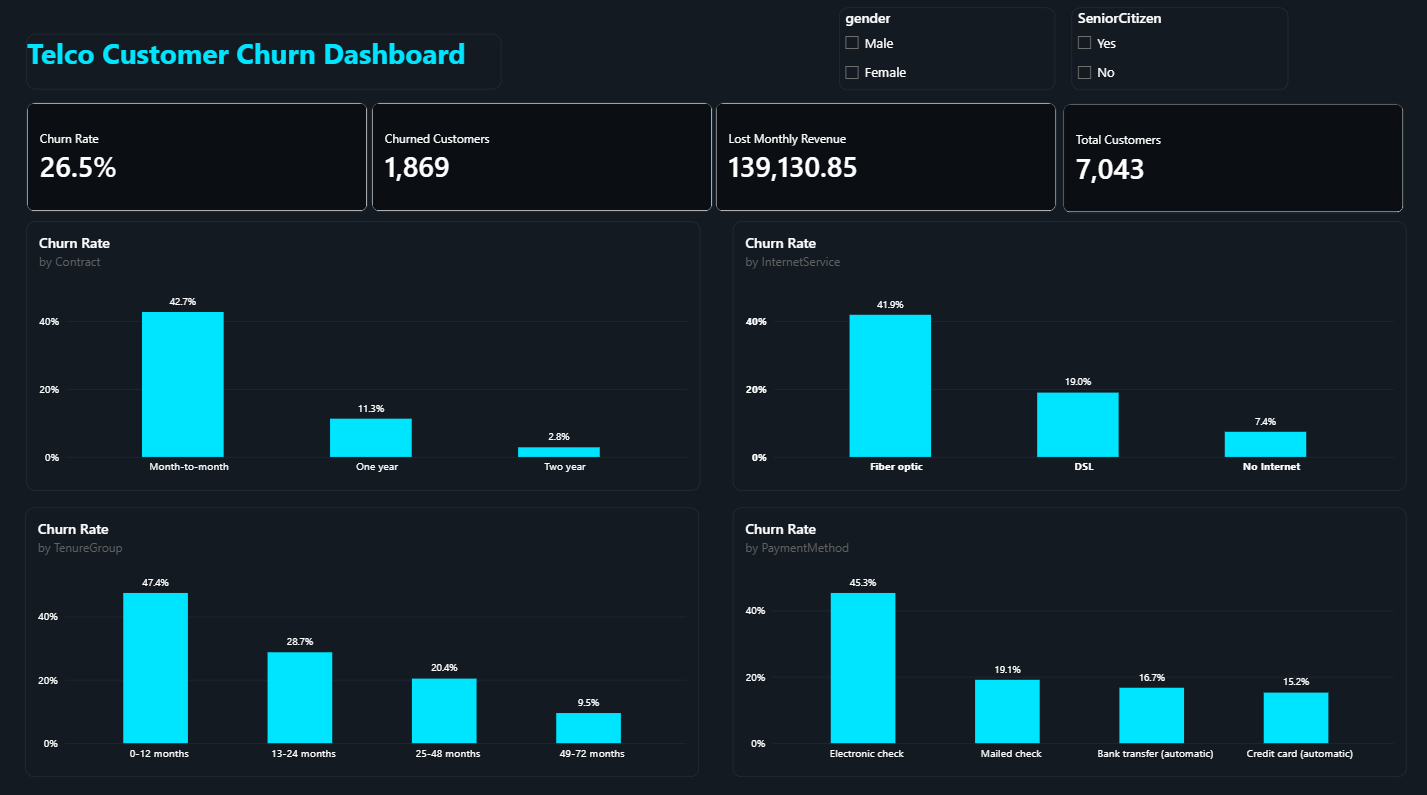

What the dashboard file says about the page in this screenshot:
{"tool":"powerbi","page":{"name":"Page 1","canvas":[1920,1080],"ordinal":0},"visuals":[{"type":"cardVisual","fields":{"Data":["telco_churn_clean.Churned Customers Display"]},"box":[504,143.9,456,146],"z":0},{"type":"clusteredColumnChart","fields":{"Category":["telco_churn_clean.Contract"],"Y":["telco_churn_clean.Churn Rate"]},"box":[43.6,303,900,360],"z":1000},{"type":"clusteredColumnChart","fields":{"Category":["telco_churn_clean.InternetService"],"Y":["telco_churn_clean.Churn Rate"]},"box":[987.5,303,900,360],"z":2000},{"type":"clusteredColumnChart","fields":{"Category":["telco_churn_clean.TenureGroup"],"Y":["telco_churn_clean.Churn Rate"]},"box":[41.4,684.5,900,360],"z":3000},{"type":"clusteredColumnChart","fields":{"Category":["telco_churn_clean.PaymentMethod"],"Y":["telco_churn_clean.Churn Rate"]},"box":[987.5,684.5,900,360],"z":4000},{"type":"slicer","fields":{"Values":["telco_churn_clean.gender"]},"box":[1129.2,17.4,289,110],"z":5000},{"type":"slicer","fields":{"Values":["telco_churn_clean.SeniorCitizen"]},"box":[1438.7,17.4,289.8,110],"z":6000},{"type":"cardVisual","fields":{"Data":["telco_churn_clean.Churn Rate"]},"box":[43.6,143.9,456,146.6],"z":7000},{"type":"cardVisual","fields":{"Data":["telco_churn_clean.Lost Revenue Display"]},"box":[963.5,143.9,456,146],"z":8000},{"type":"cardVisual","fields":{"Data":["telco_churn_clean.Total Customers Display"]},"box":[1427.8,146,456,146],"z":9000},{"type":"textbox","box":[43.6,52.3,634.3,74.1],"z":9001}]}

Visuals, with their boxes in screenshot pixels (x1, y1, x2, y2), scaled from the page's 1920x1080 canvas onto the 1427x795 screenshot:
cardVisual - telco_churn_clean.Churned Customers Display: locate(375, 106, 714, 213)
clusteredColumnChart - telco_churn_clean.Contract x telco_churn_clean.Churn Rate: locate(32, 223, 701, 488)
clusteredColumnChart - telco_churn_clean.InternetService x telco_churn_clean.Churn Rate: locate(734, 223, 1403, 488)
clusteredColumnChart - telco_churn_clean.TenureGroup x telco_churn_clean.Churn Rate: locate(31, 504, 700, 769)
clusteredColumnChart - telco_churn_clean.PaymentMethod x telco_churn_clean.Churn Rate: locate(734, 504, 1403, 769)
slicer - telco_churn_clean.gender: locate(839, 13, 1054, 94)
slicer - telco_churn_clean.SeniorCitizen: locate(1069, 13, 1285, 94)
cardVisual - telco_churn_clean.Churn Rate: locate(32, 106, 371, 214)
cardVisual - telco_churn_clean.Lost Revenue Display: locate(716, 106, 1055, 213)
cardVisual - telco_churn_clean.Total Customers Display: locate(1061, 107, 1400, 215)
textbox: locate(32, 38, 504, 93)
